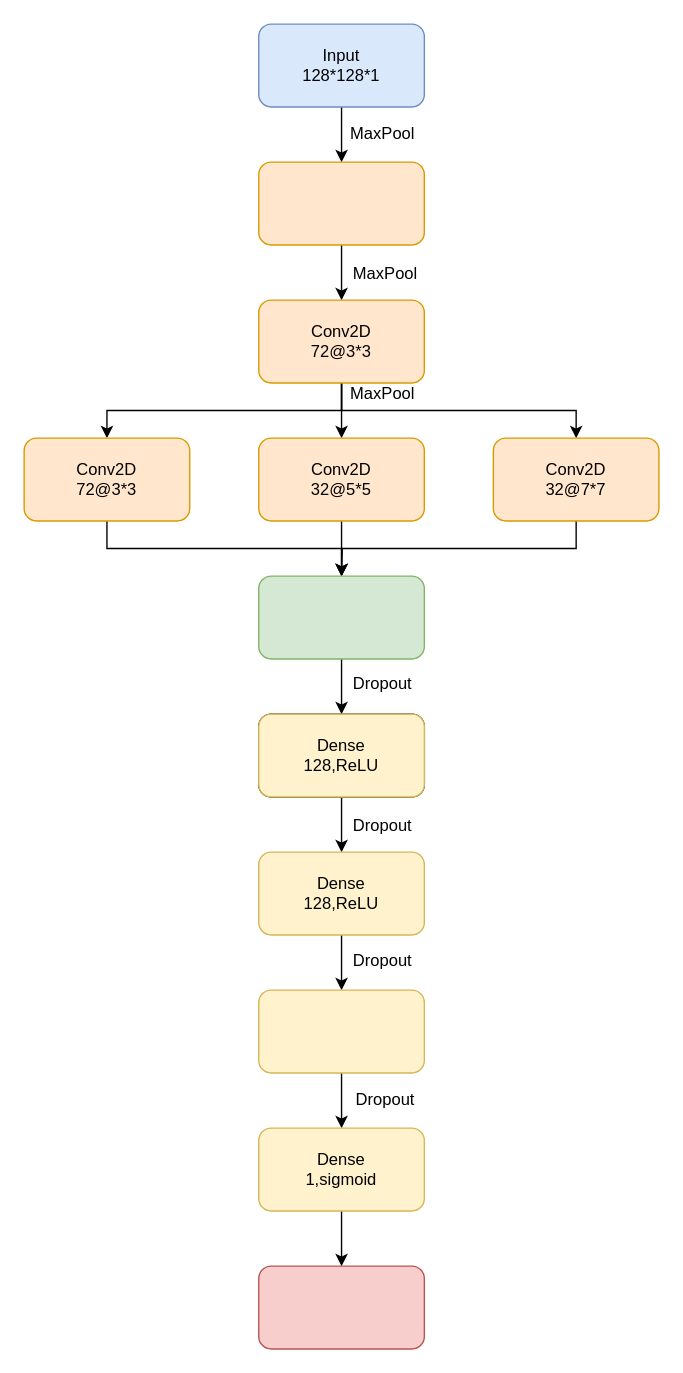
Image size: 683x1373. Some labels were removed from this diagram. The centre of each missing label's shape, as x and y in pixels:
"Conv2D 96@3*3" belongs at [340,203].
"Dense 84,ReLU" belongs at [340,1031].
"Flatten" belongs at [340,617].
"Output" belongs at [340,1307].
